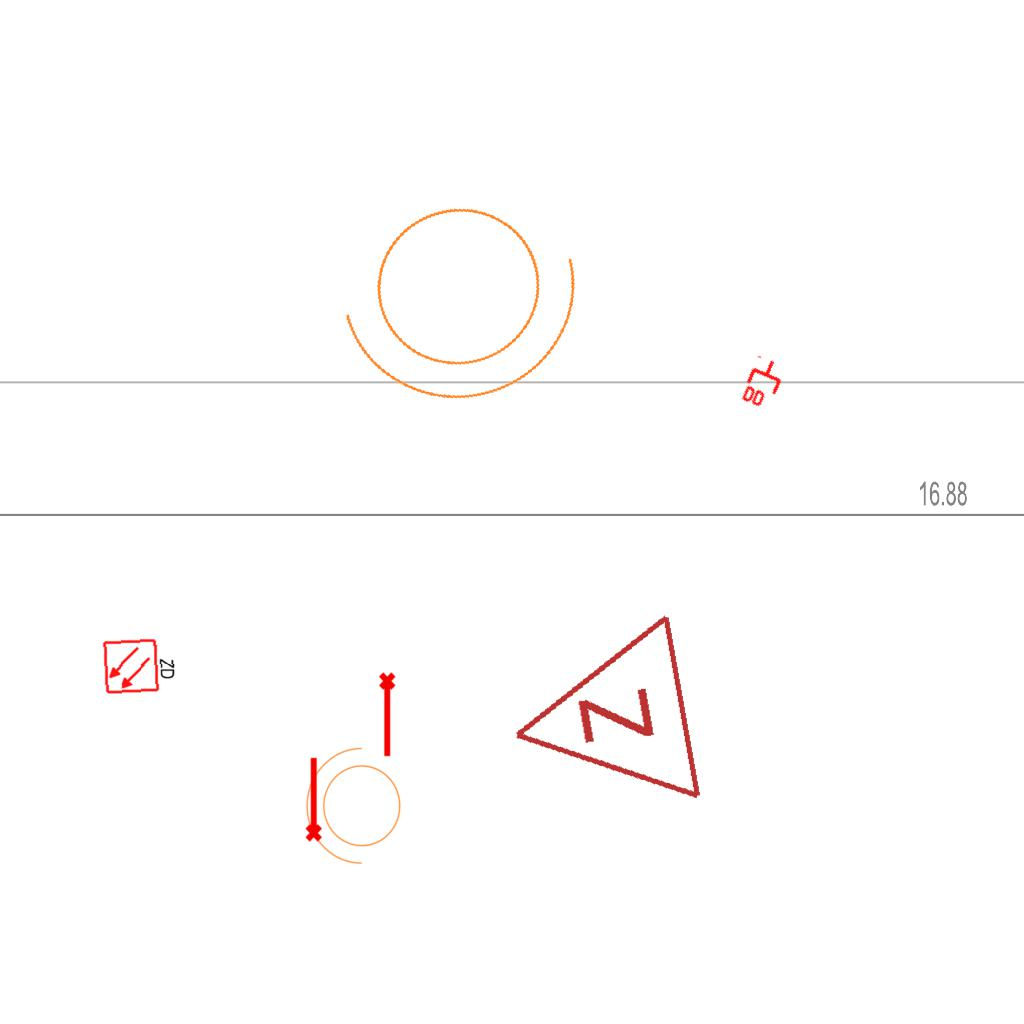ASR_Ansaugoeffnung: (377, 671, 400, 759), (301, 755, 324, 843)
Datenanschluss_zweifach: (738, 353, 790, 414)
Scheinwerfer_fuer_Alarmbeleuchtung: (311, 153, 623, 436), (301, 743, 413, 875)
ZD_Melder_in_Zwischendecke_mit_Revisionsoeffnung_mind_40_x_40_cm: (102, 634, 179, 696)
Zimmersignalleuchte: (485, 609, 717, 837)
